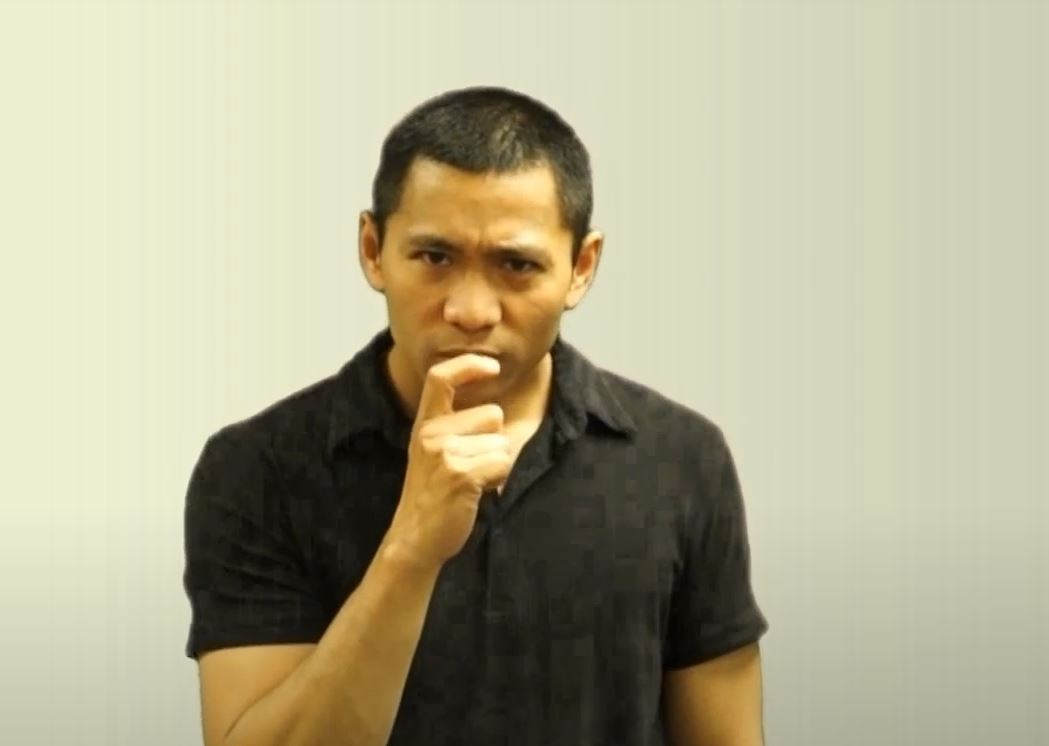who: (346, 338, 575, 556)
